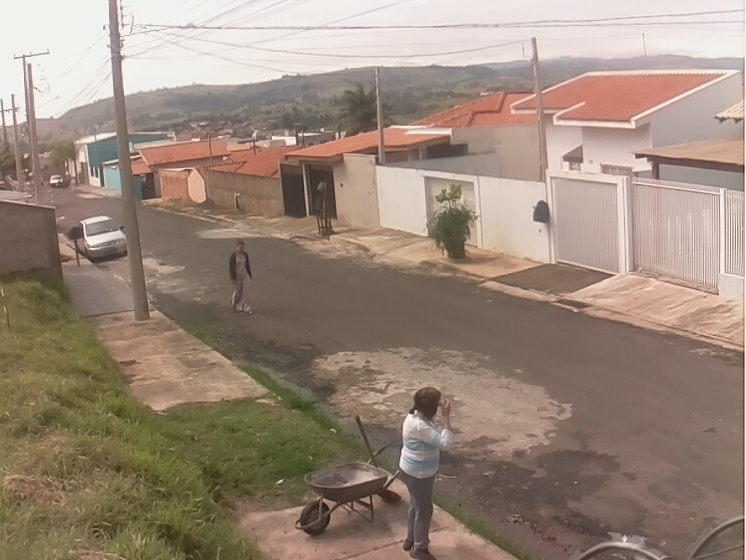person: (398, 385, 452, 560), (228, 240, 255, 315)
